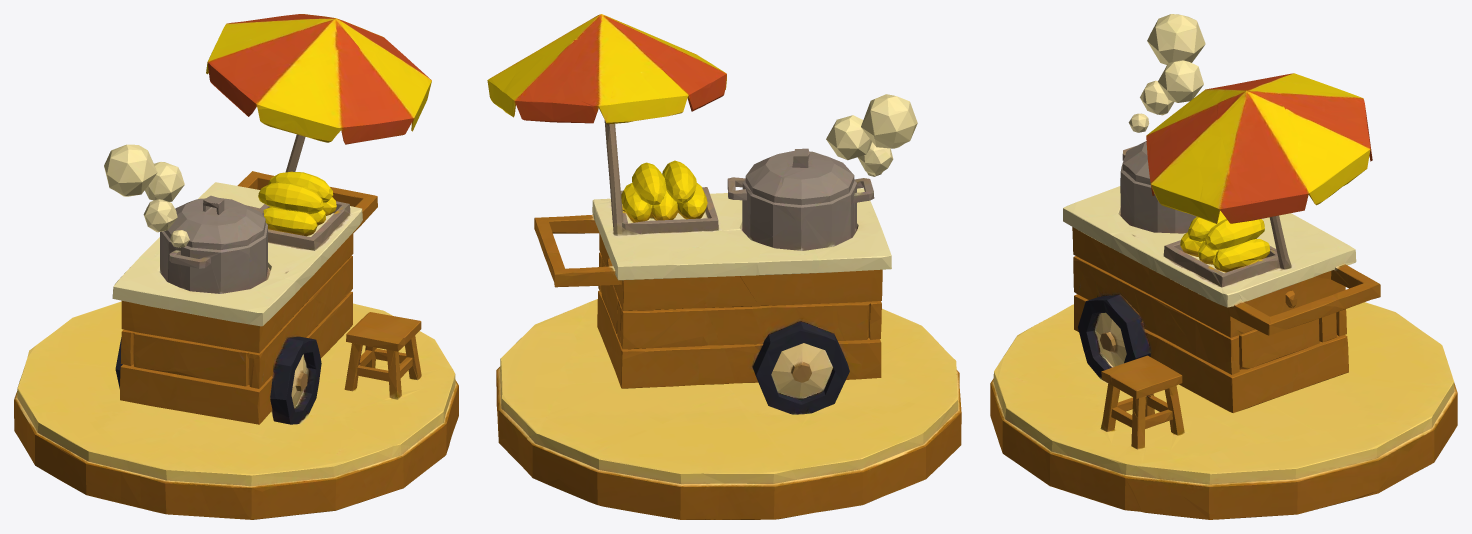
File: rio-milho.glb
The picture shows the model from 3 angles, left to right: view 1: azimuth 30°, elevation 25°; view 2: azimuth 150°, elevation 25°; view 3: azimuth 270°, elevation 25°; orthographic projection. The views are drawn at different scales.
Visible parts, largest first — view 1: tripo_node_9eabcc51-a1cb-4be2-bcda-f28e4d8c3d11; view 2: tripo_node_9eabcc51-a1cb-4be2-bcda-f28e4d8c3d11; view 3: tripo_node_9eabcc51-a1cb-4be2-bcda-f28e4d8c3d11.
Boxes of the visible parts, box(x1,y1,x2,y2) form: tripo_node_9eabcc51-a1cb-4be2-bcda-f28e4d8c3d11: box(14, 14, 458, 519); tripo_node_9eabcc51-a1cb-4be2-bcda-f28e4d8c3d11: box(487, 14, 961, 519); tripo_node_9eabcc51-a1cb-4be2-bcda-f28e4d8c3d11: box(990, 14, 1457, 519).
Bounding box in the file's own units: 0.9999 × 0.9136 × 0.9983.
Materials: 1 (1 with a texture image).
